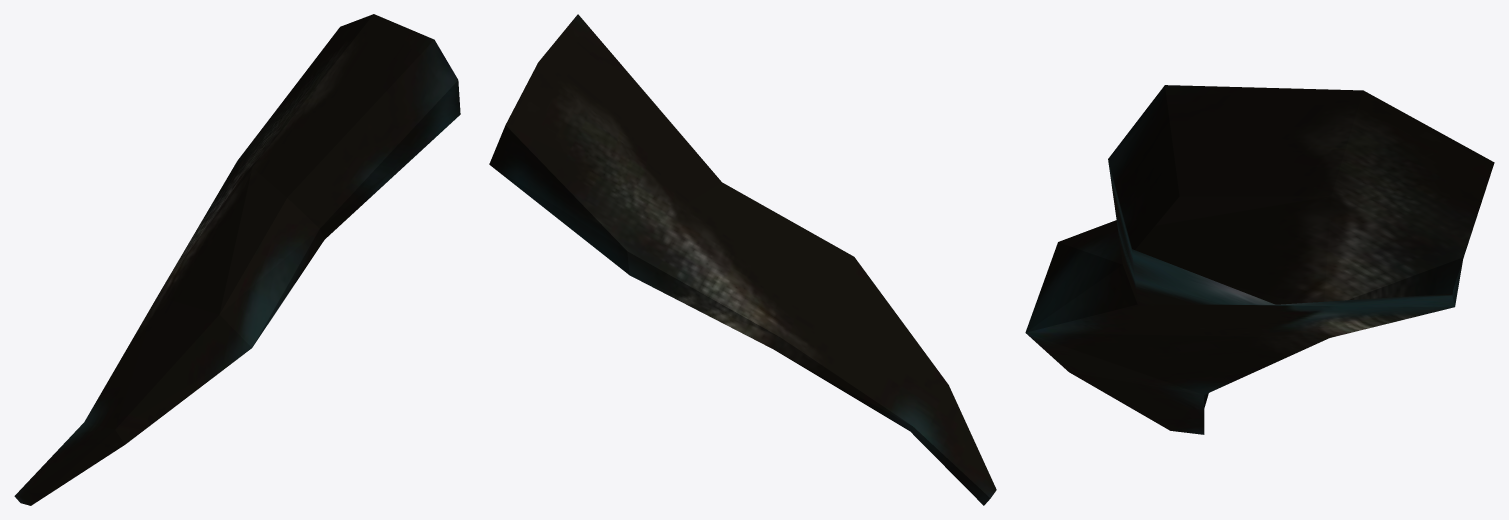
File: Ala_der.obj
The picture shows the model from 3 angles, left to right: view 1: azimuth 30°, elevation 25°; view 2: azimuth 150°, elevation 25°; view 3: azimuth 270°, elevation 25°; orthographic projection. The views are drawn at different scales.
Parts seen in each view (by area): view 1: polySurface1; view 2: polySurface1; view 3: polySurface1.
Boxes of the visible parts, x1,y1,x2,y2 form: polySurface1: (14,14,460,505); polySurface1: (489,14,996,505); polySurface1: (1025,85,1494,434).
Bounding box in the file's own units: 0.8369 × 0.6948 × 0.397.
Materials: 1 (1 with a texture image).
